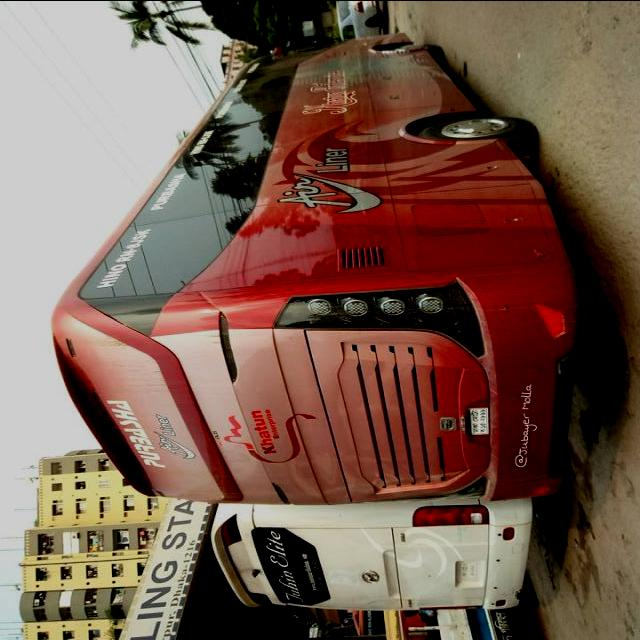bus: (50, 31, 587, 508)
